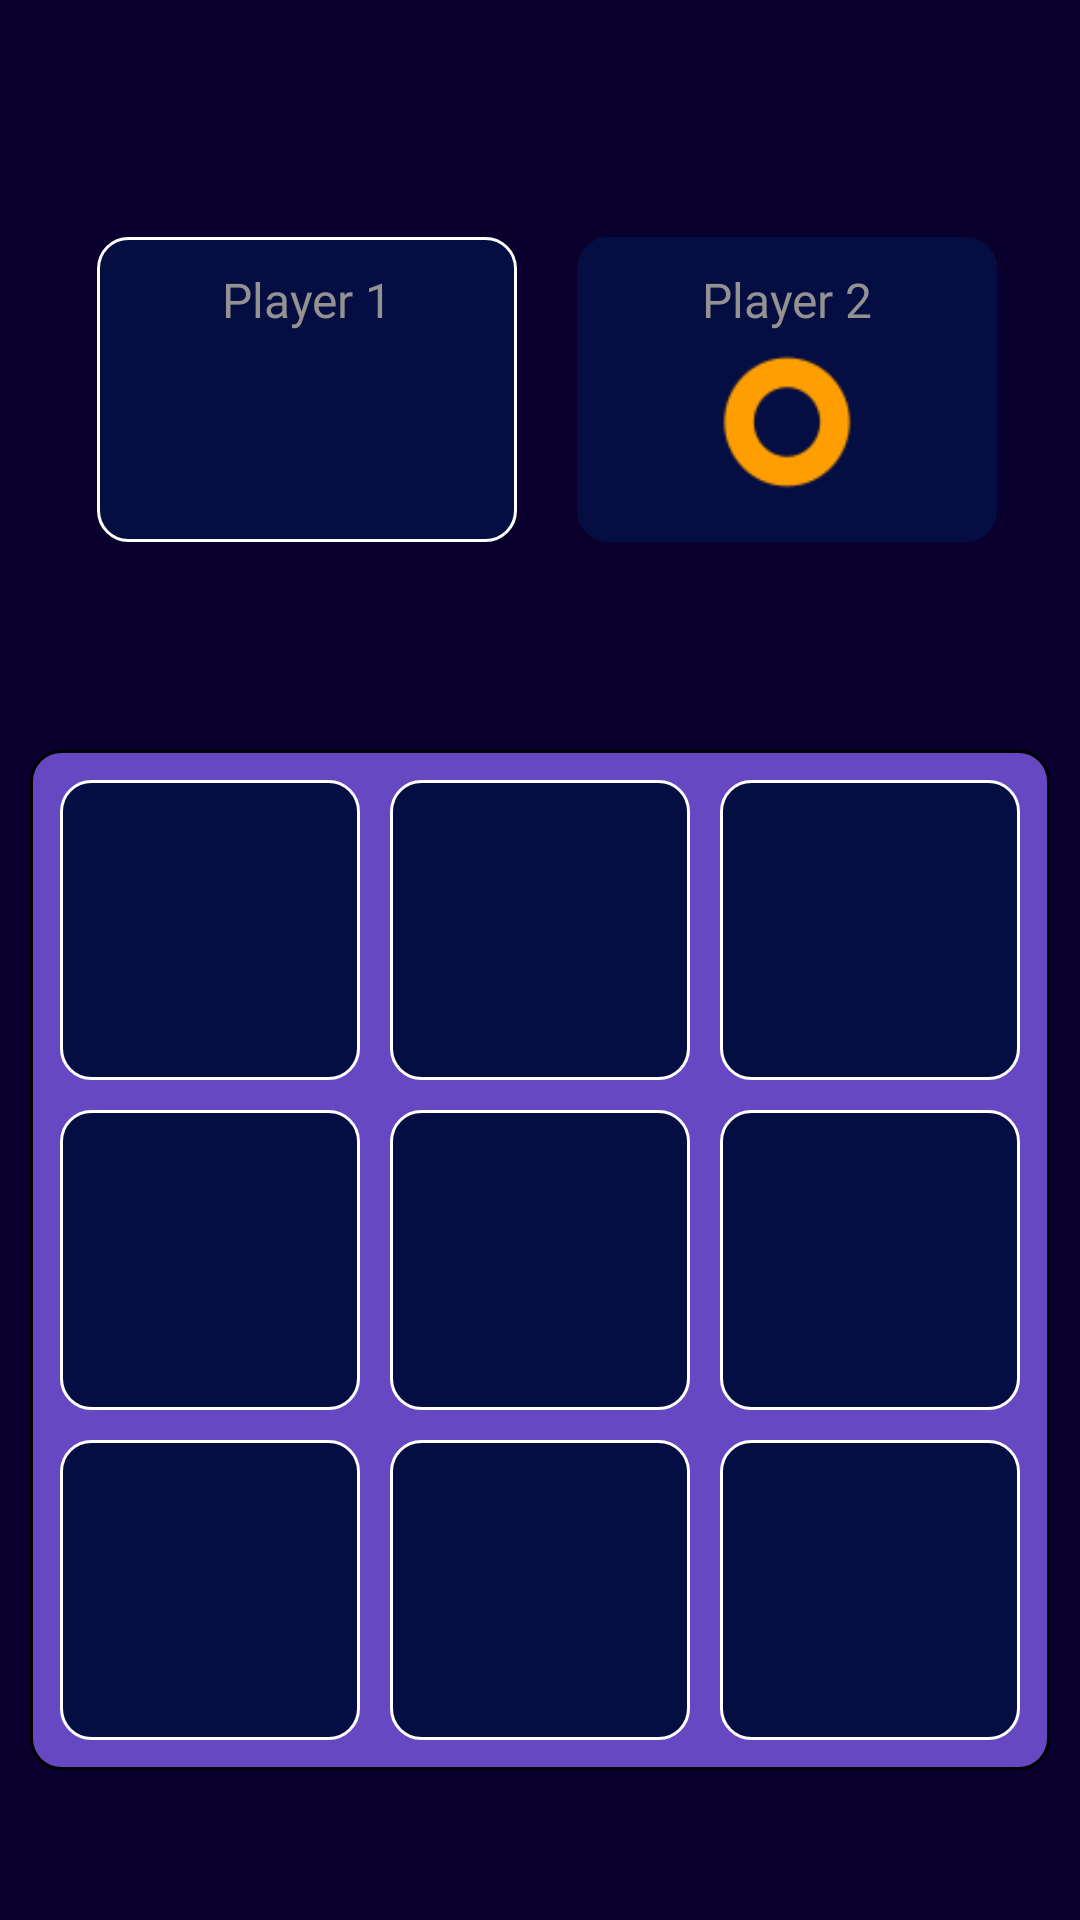

Locate icon controls on the screen. Image size 1080*1920, boxes as detection(x1, y1, x2, y2).
mark: detection(723, 356, 851, 488)
